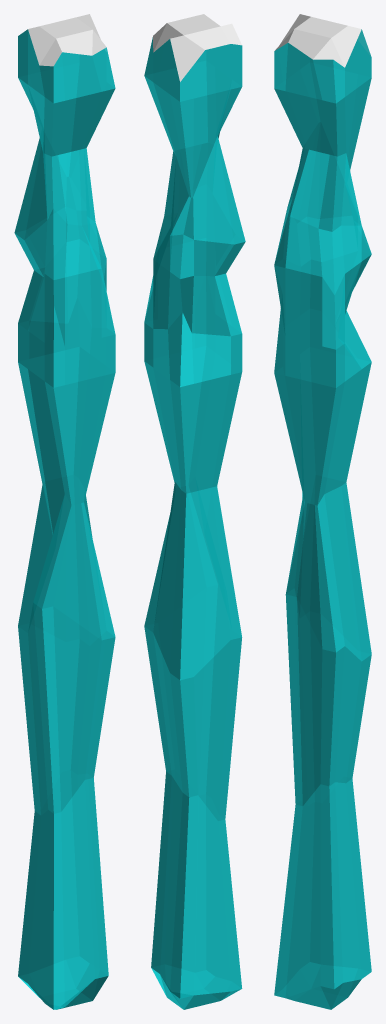
Rendered from Platform_glacier.fbx.
3 renders of one model, left to right at view 1: azimuth 30°, elevation 25°; view 2: azimuth 210°, elevation 25°; view 3: azimuth 330°, elevation 25°, orthographic.
Parts seen in each view (by area): view 1: Cube.001; view 2: Cube.001; view 3: Cube.001.
Part boxes in pixels (x1,y1,x2,y2): Cube.001: [14, 14, 115, 1009]; Cube.001: [144, 14, 245, 1009]; Cube.001: [274, 14, 371, 1009].
Size of the model in its own units: 217 by 3000 by 202.
